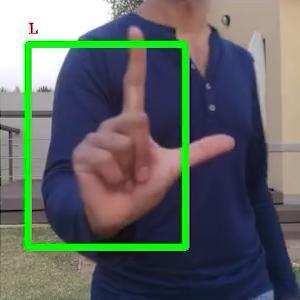land_hand: (45, 17, 235, 242)
